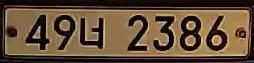2: (126, 13, 152, 54)
3: (153, 14, 177, 52)
4: (24, 12, 52, 53)
6: (204, 13, 229, 54)
8: (178, 13, 204, 53)
9: (53, 13, 78, 53)
너: (78, 14, 107, 51)
